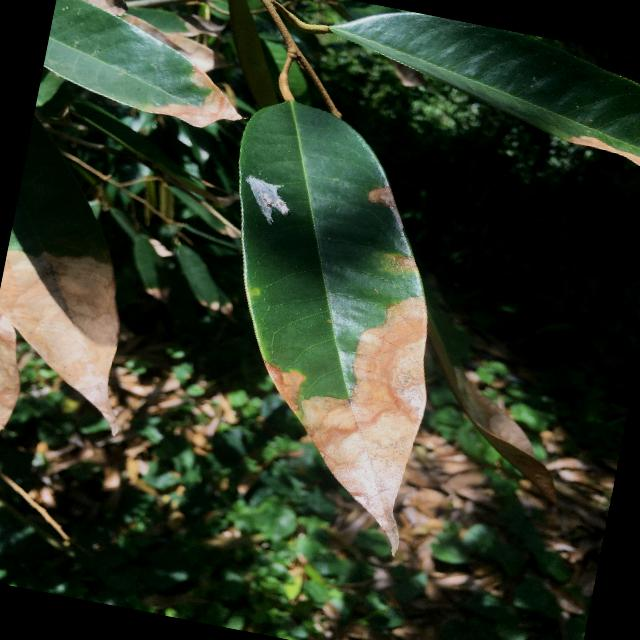Leaf Blight: (165, 89, 487, 562)
